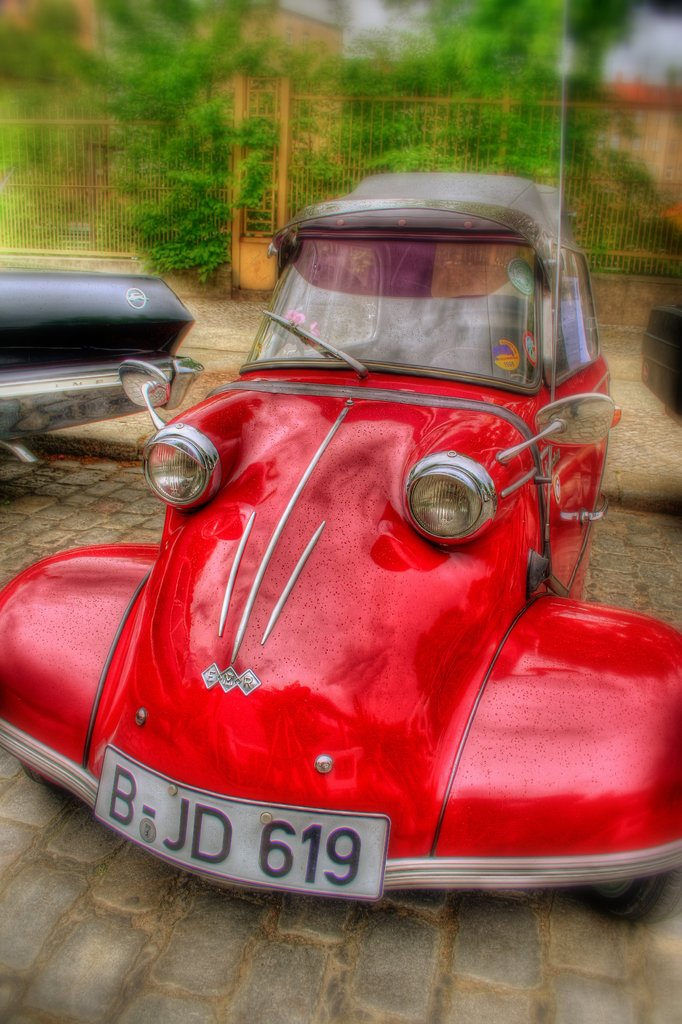Car: (33, 168, 678, 949), (0, 266, 207, 485)
